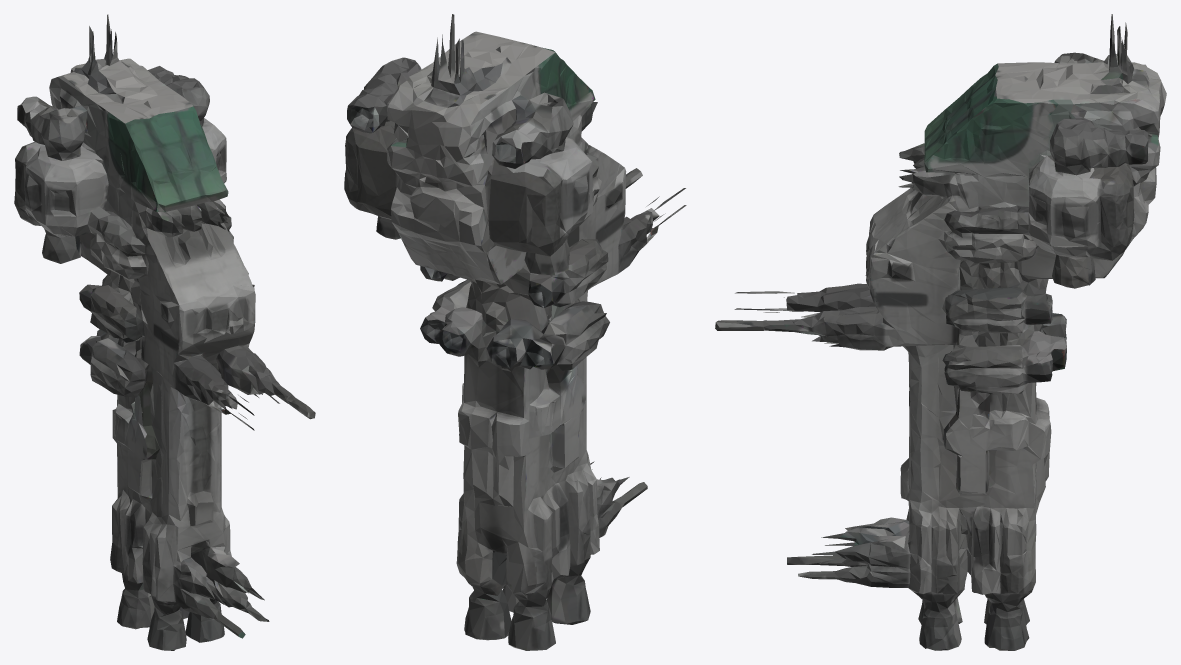
The model's file is Miner.glb.
3 renders of one model, left to right at view 1: azimuth 30°, elevation 25°; view 2: azimuth 150°, elevation 25°; view 3: azimuth 270°, elevation 25°, orthographic. The views are drawn at different scales.
Visible parts, largest first — view 1: world; view 2: world; view 3: world.
Boxes of the visible parts, left/top/right/bottom form: world: left=14, top=14, right=315, bottom=650; world: left=344, top=14, right=686, bottom=650; world: left=715, top=14, right=1166, bottom=650.
Size of the model in its own units: 0.7185 by 1.99 by 1.31.
1 material, 1 textured.
